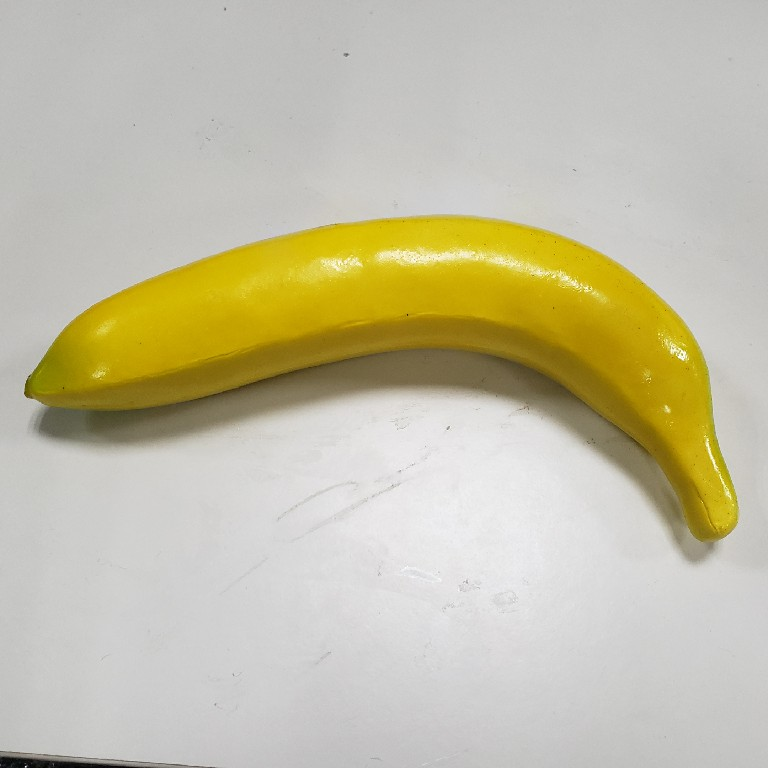fruit_banana: (18, 208, 743, 552)
